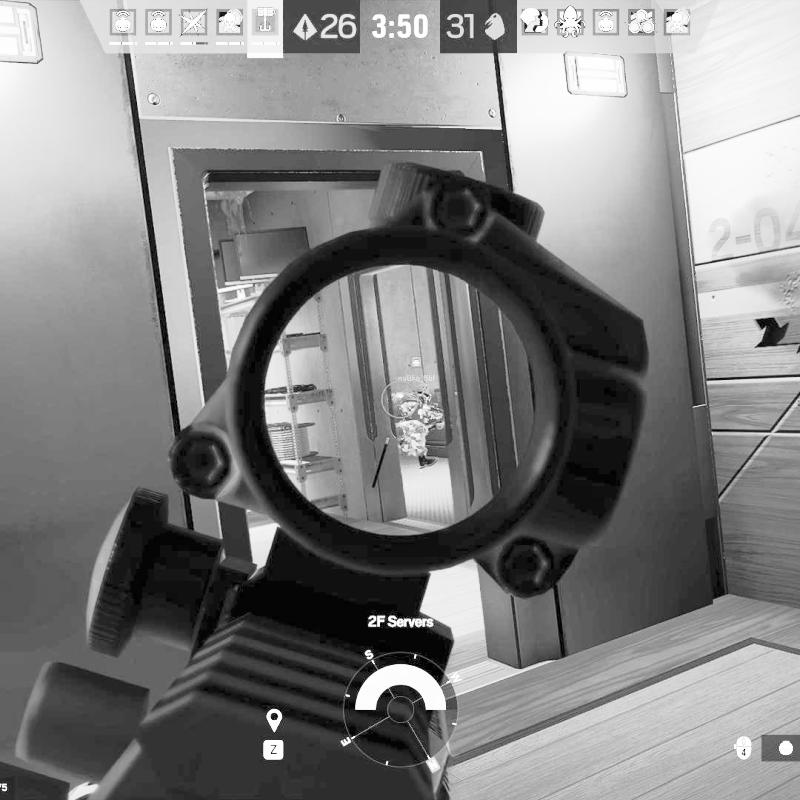Character: (388, 382, 447, 473)
Friend_label: (398, 354, 435, 382)
Head: (412, 384, 435, 400)
